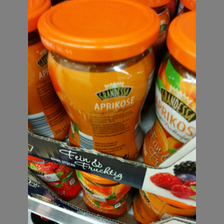jam: (37, 1, 160, 164), (141, 9, 196, 166)
